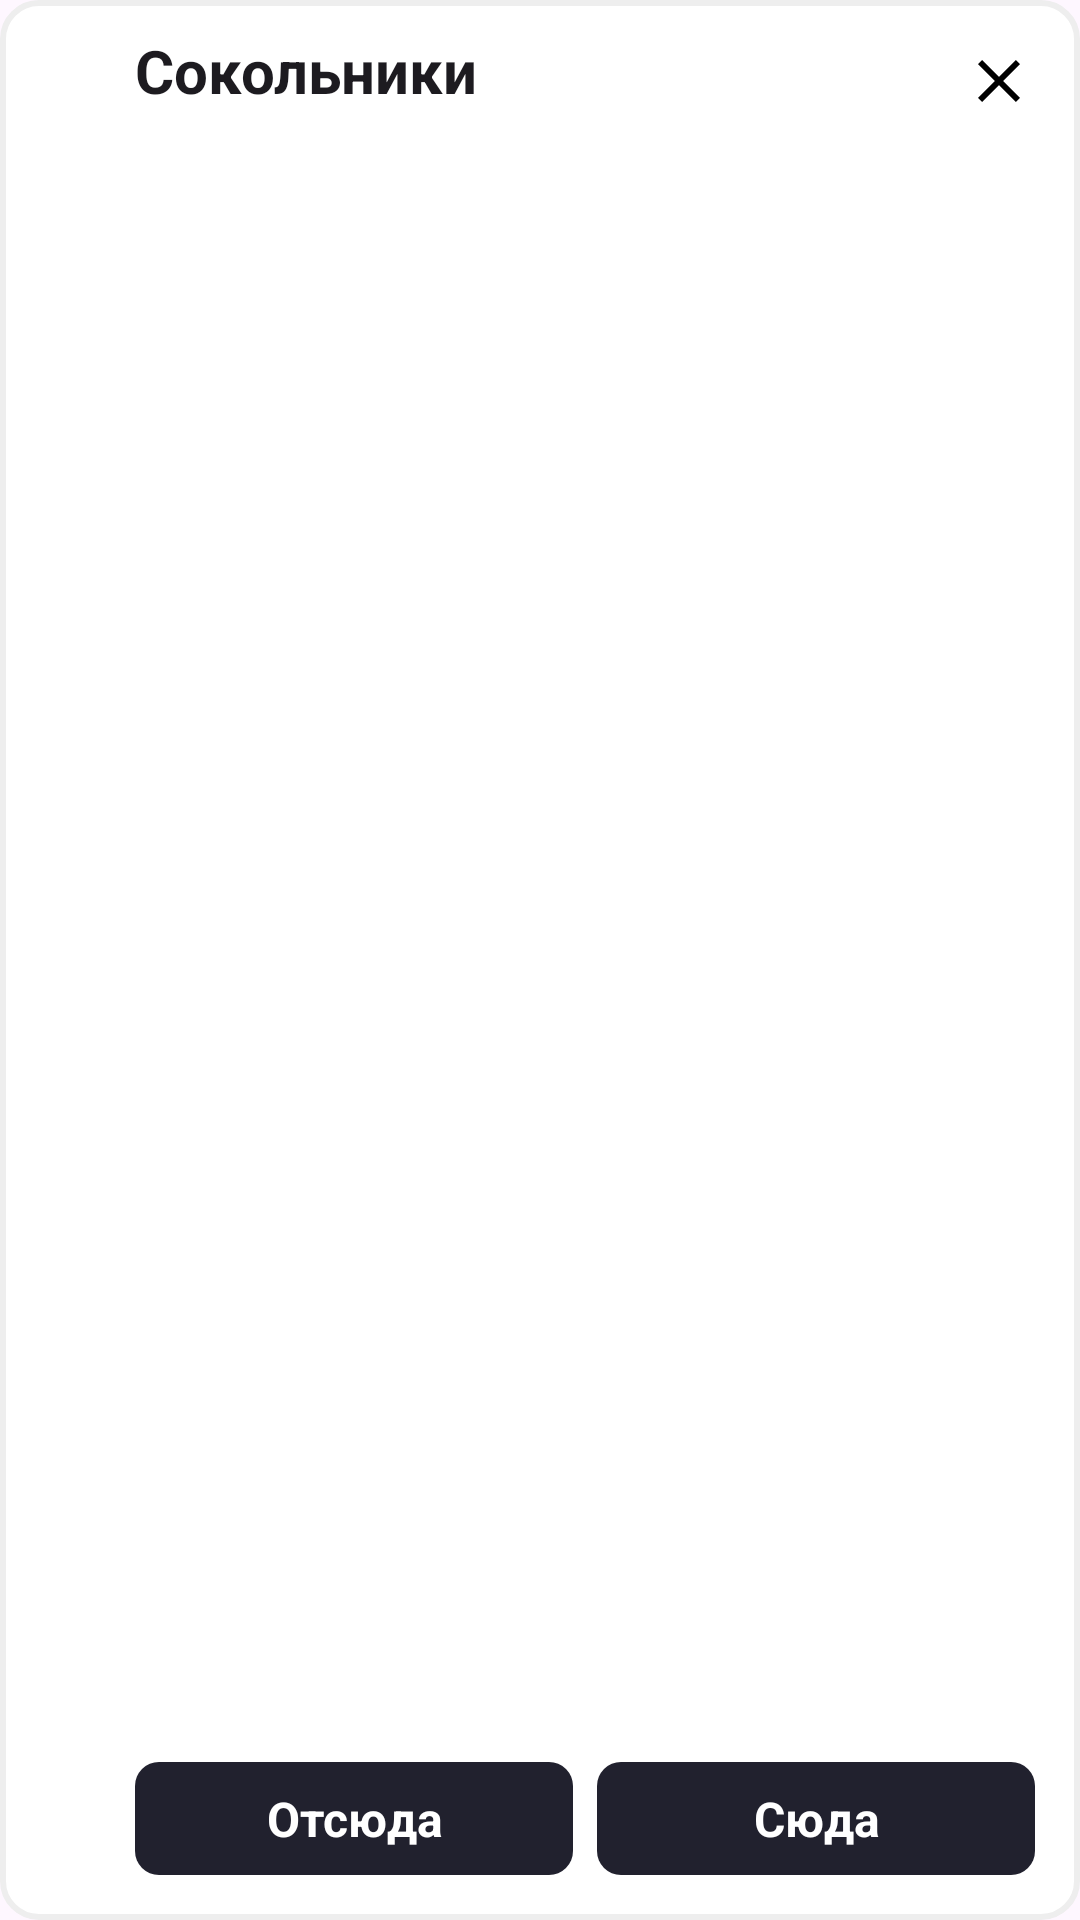

Named icons in this screenshot (1080x1920) and their bounding boxes, bbox(x1, y1, x2, y2):
close: bbox(978, 60, 1020, 102)
